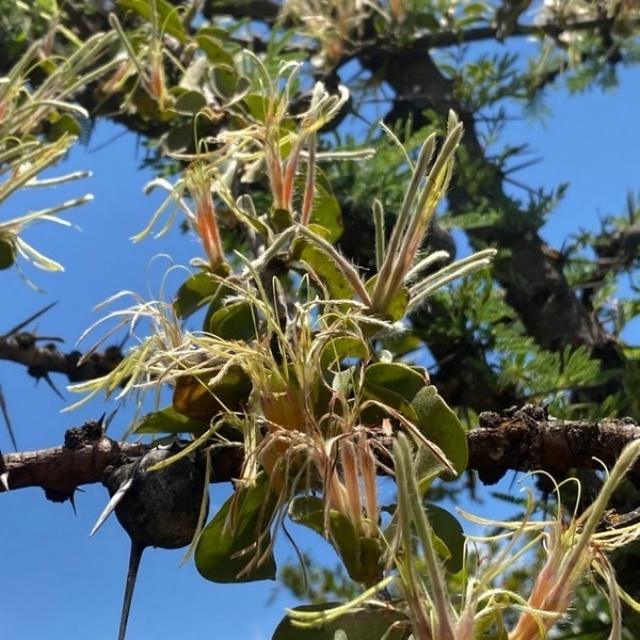obstacle: (123, 58, 570, 611)
